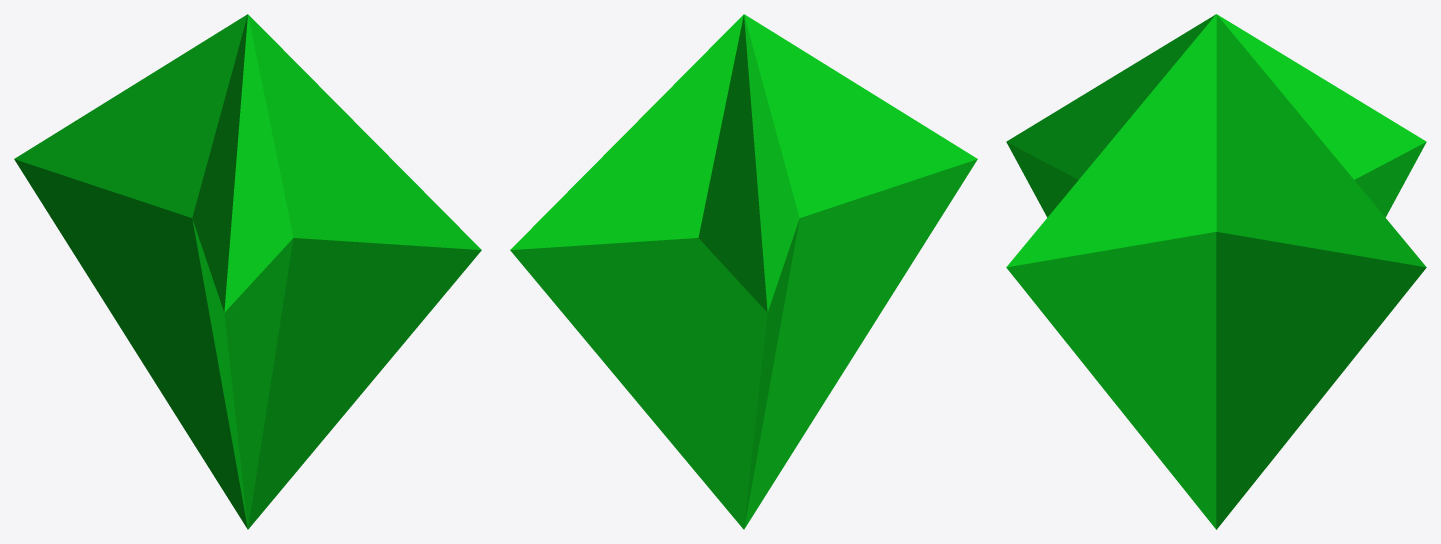
File: TurnToken.fbx
3 views of the same model, side by side, from view 1: azimuth 30°, elevation 25°; view 2: azimuth 150°, elevation 25°; view 3: azimuth 270°, elevation 25° (orthographic).
Parts seen in each view (by area): view 1: TurnToken; view 2: TurnToken; view 3: TurnToken.
Boxes of the visible parts, x1,y1,x2,y2 form: TurnToken: (14, 14, 481, 529); TurnToken: (510, 14, 977, 529); TurnToken: (1006, 14, 1426, 529).
Bounding box in the file's own units: 200 × 383 × 283.
